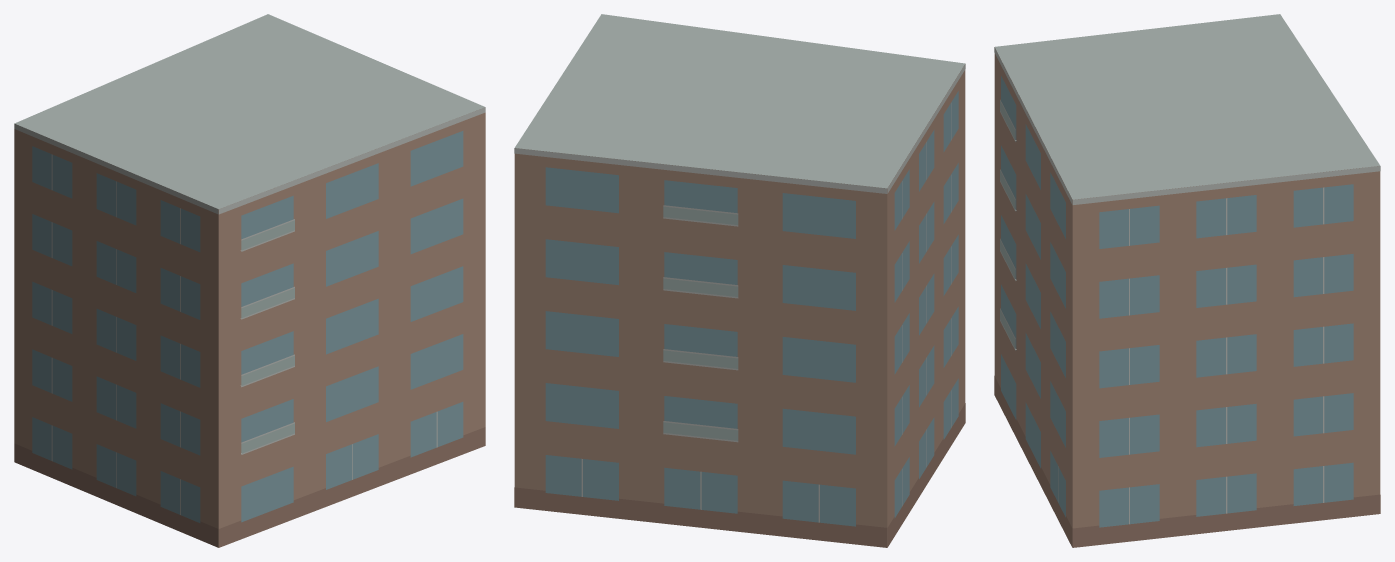
The model's file is survey-upis-32719788.glb.
The picture shows the model from 3 angles, left to right: view 1: azimuth 30°, elevation 25°; view 2: azimuth 150°, elevation 25°; view 3: azimuth 270°, elevation 25°; orthographic projection. The views are drawn at different scales.
Visible parts, largest first — view 1: survey-upis-32719788.tmp; view 2: survey-upis-32719788.tmp; view 3: survey-upis-32719788.tmp.
Boxes of the visible parts, x1,y1,x2,y2 form: survey-upis-32719788.tmp: (14,14,485,547); survey-upis-32719788.tmp: (514,14,965,547); survey-upis-32719788.tmp: (994,14,1380,547).
Size of the model in its own units: 17.75 by 15.5 by 15.59.
